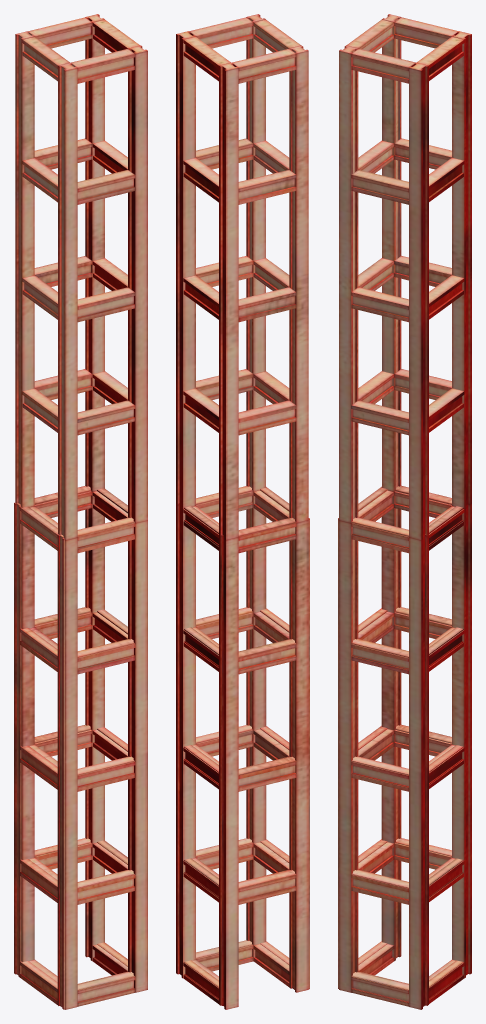
The model's file is tower3.obj.
3 renders of one model, left to right at view 1: azimuth 30°, elevation 25°; view 2: azimuth 210°, elevation 25°; view 3: azimuth 330°, elevation 25°, orthographic.
Size of the model in its own units: 5.39 by 57.59 by 5.57.
1 material, 1 textured.
